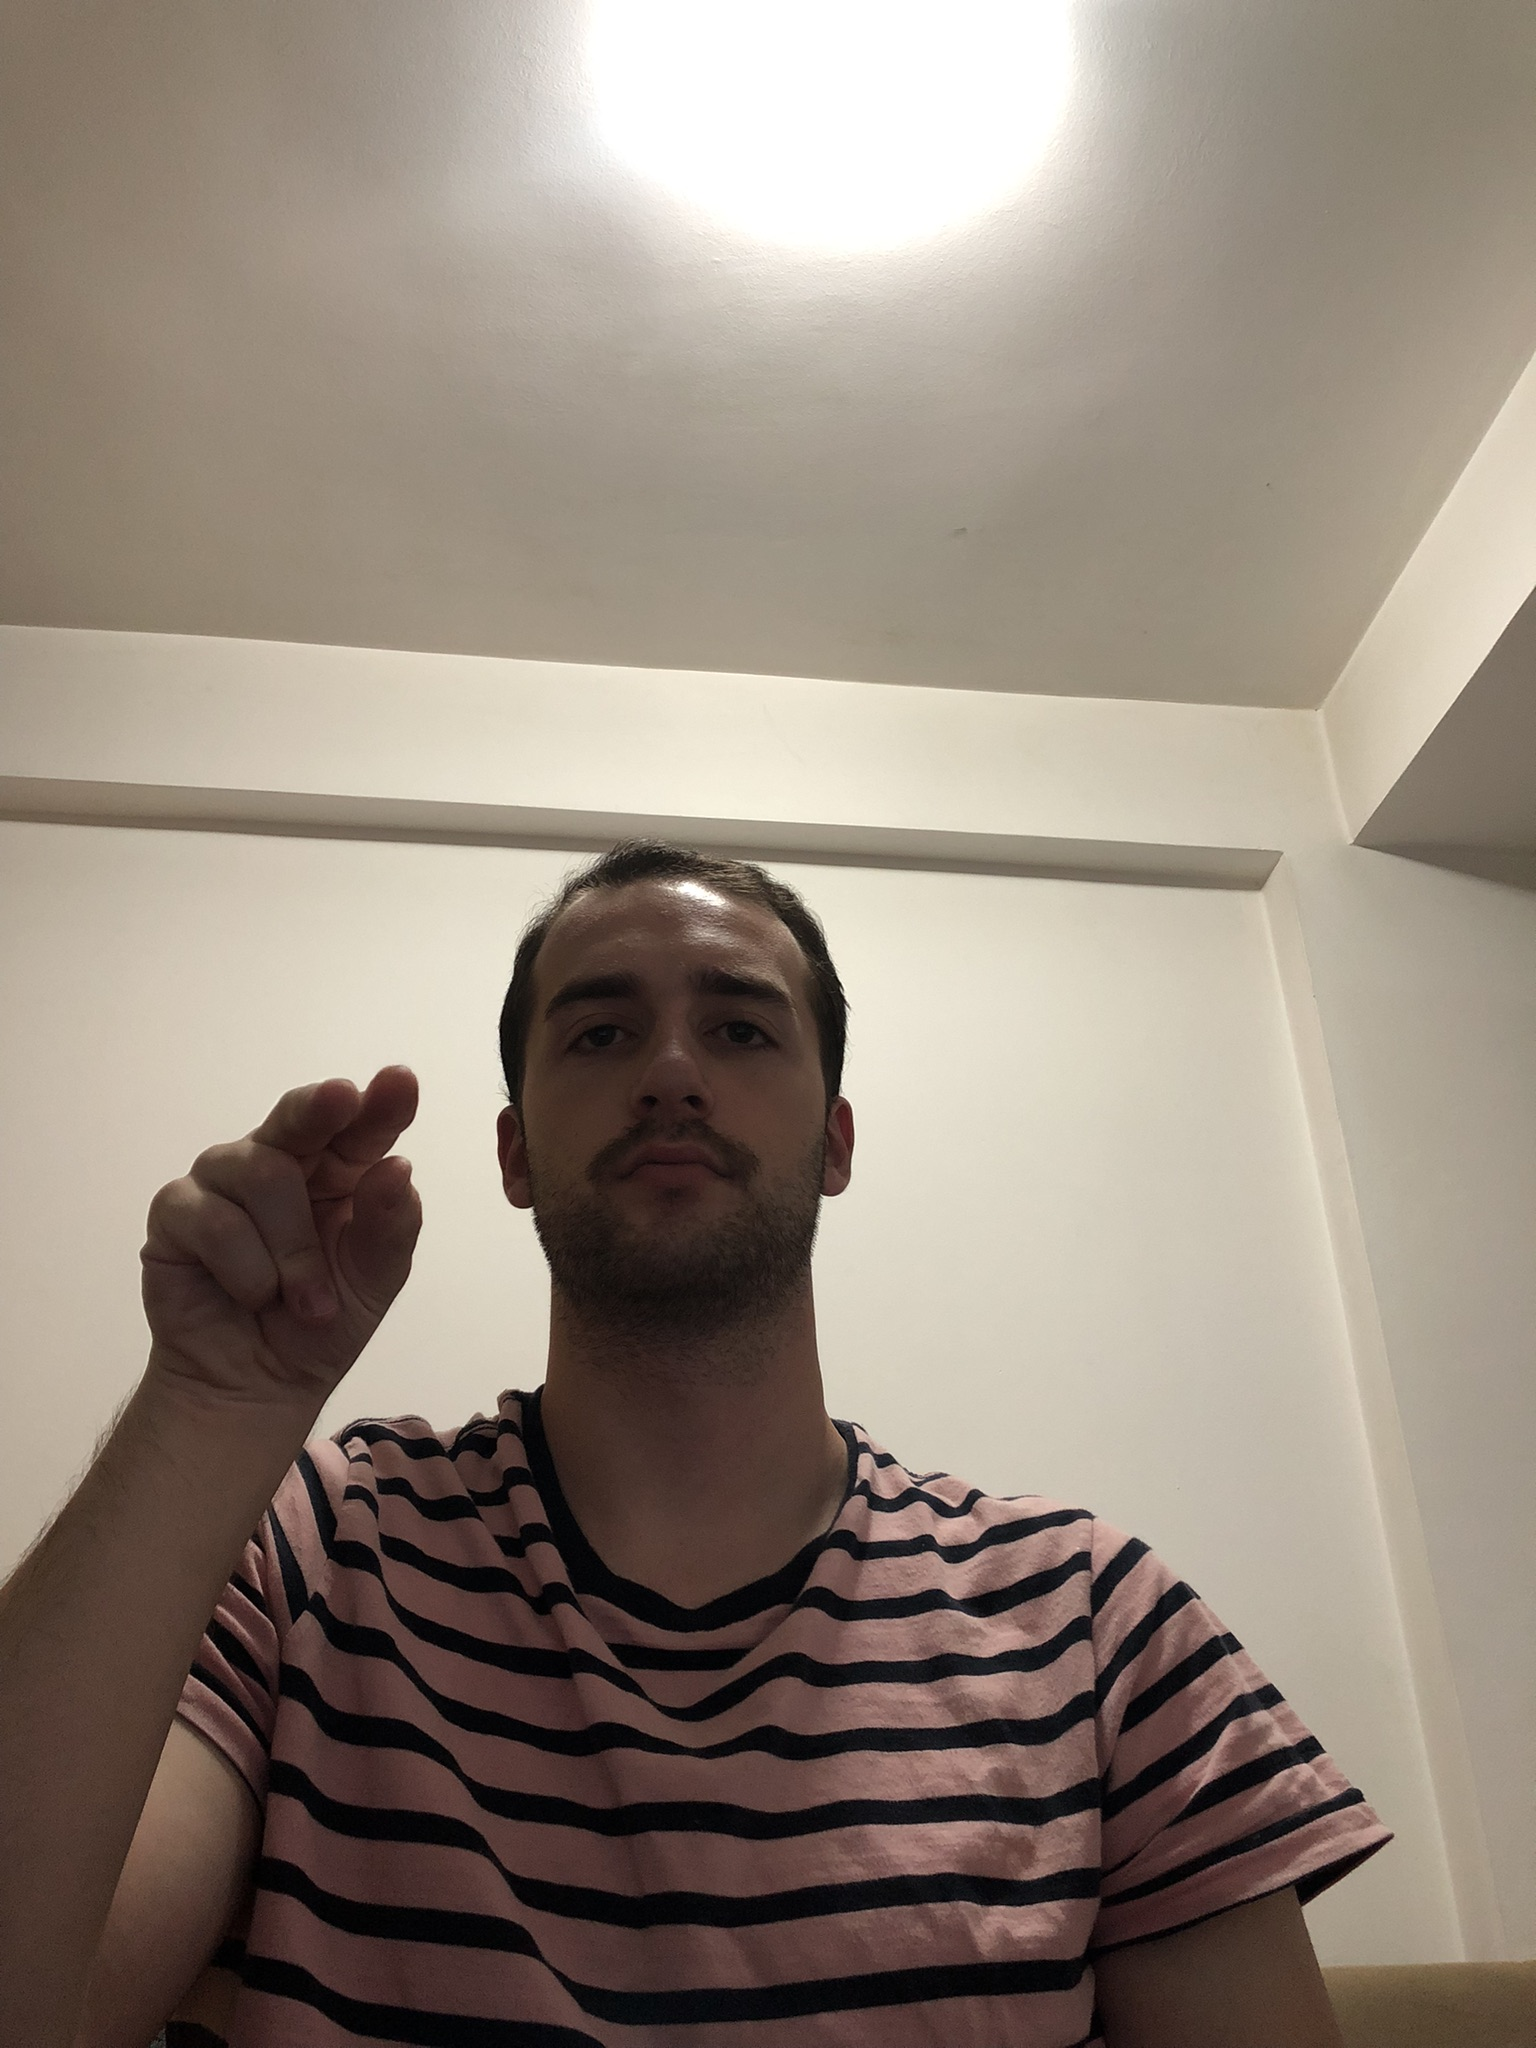No: (127, 1061, 457, 1443)
